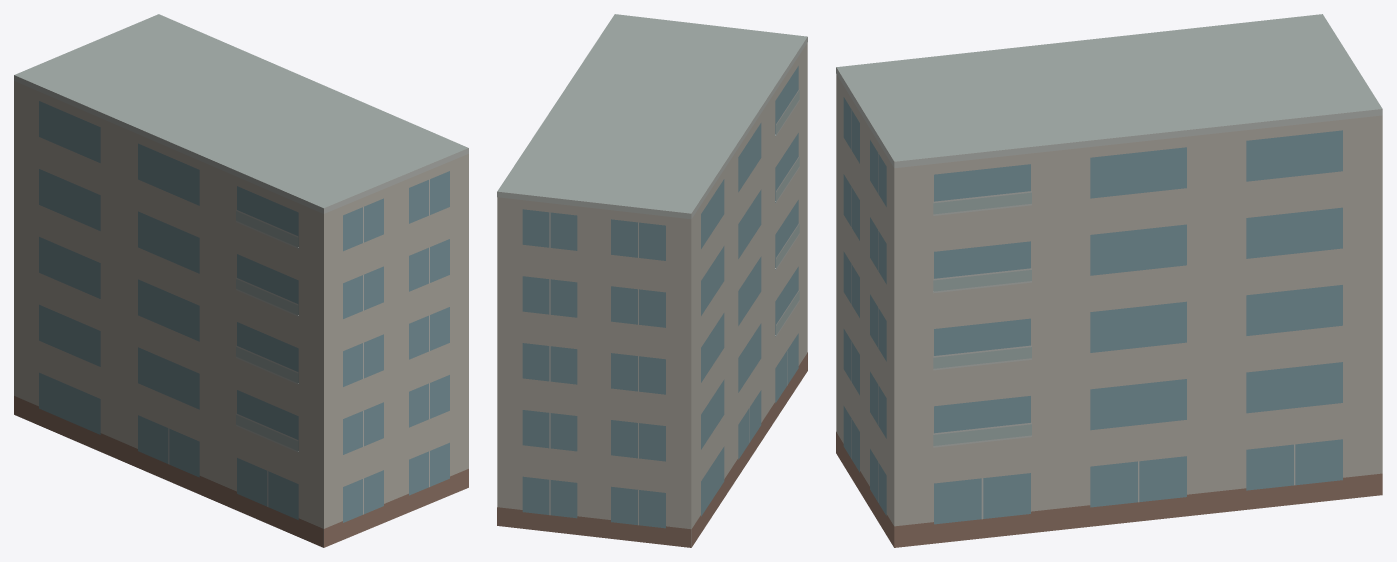
The model's file is survey-upis-32564467.glb.
3 views of the same model, side by side, from view 1: azimuth 30°, elevation 25°; view 2: azimuth 150°, elevation 25°; view 3: azimuth 270°, elevation 25° (orthographic). The views are drawn at different scales.
Parts seen in each view (by area): view 1: survey-upis-32564467.tmp; view 2: survey-upis-32564467.tmp; view 3: survey-upis-32564467.tmp.
Boxes of the visible parts, x1,y1,x2,y2 form: survey-upis-32564467.tmp: (14,14,468,547); survey-upis-32564467.tmp: (497,14,807,547); survey-upis-32564467.tmp: (836,14,1382,547).
Size of the model in its own units: 11.91 by 14.5 by 18.61.
